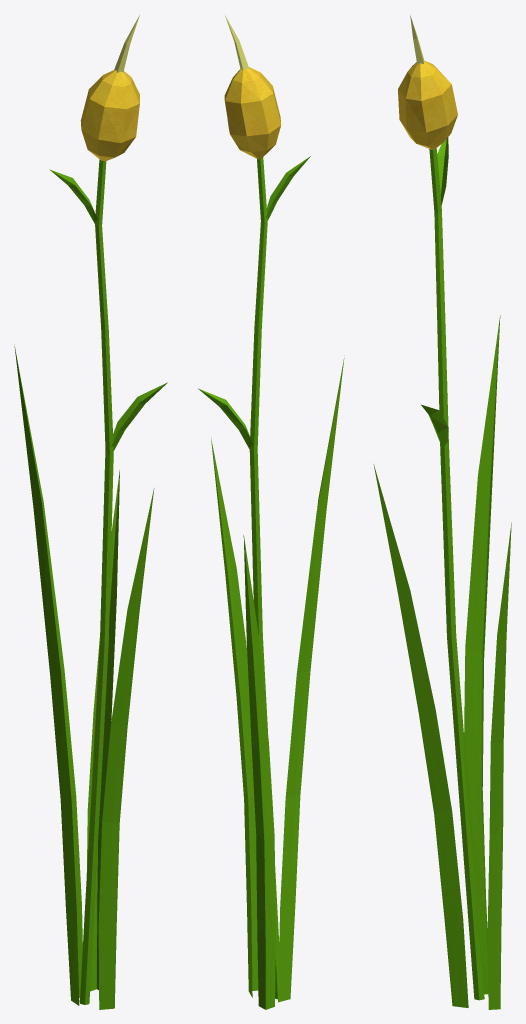
The model's file is PuffReed1_Yellow.fbx.
3 renders of one model, left to right at view 1: azimuth 30°, elevation 25°; view 2: azimuth 210°, elevation 25°; view 3: azimuth 270°, elevation 25°, orthographic. The views are drawn at different scales.
Visible parts, largest first — view 1: Mesh; view 2: Mesh; view 3: Mesh.
Boxes of the visible parts, x1,y1,x2,y2 form: Mesh: [14, 15, 167, 1009]; Mesh: [198, 15, 344, 1009]; Mesh: [373, 15, 511, 1009].
Size of the model in its own units: 42.36 by 359 by 45.29.
